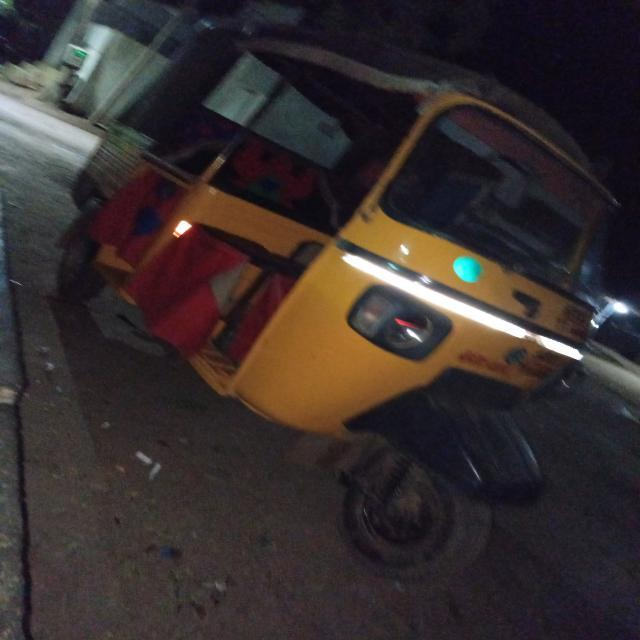auto_front: (47, 0, 639, 582)
